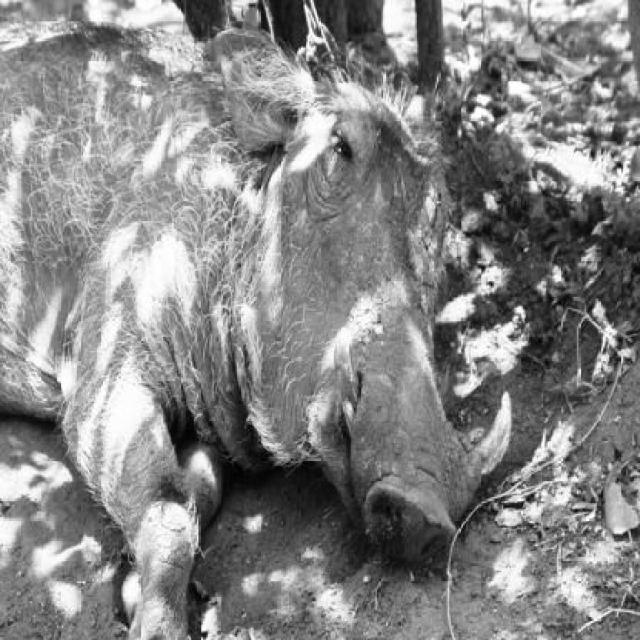Boar: (1, 14, 514, 638)
